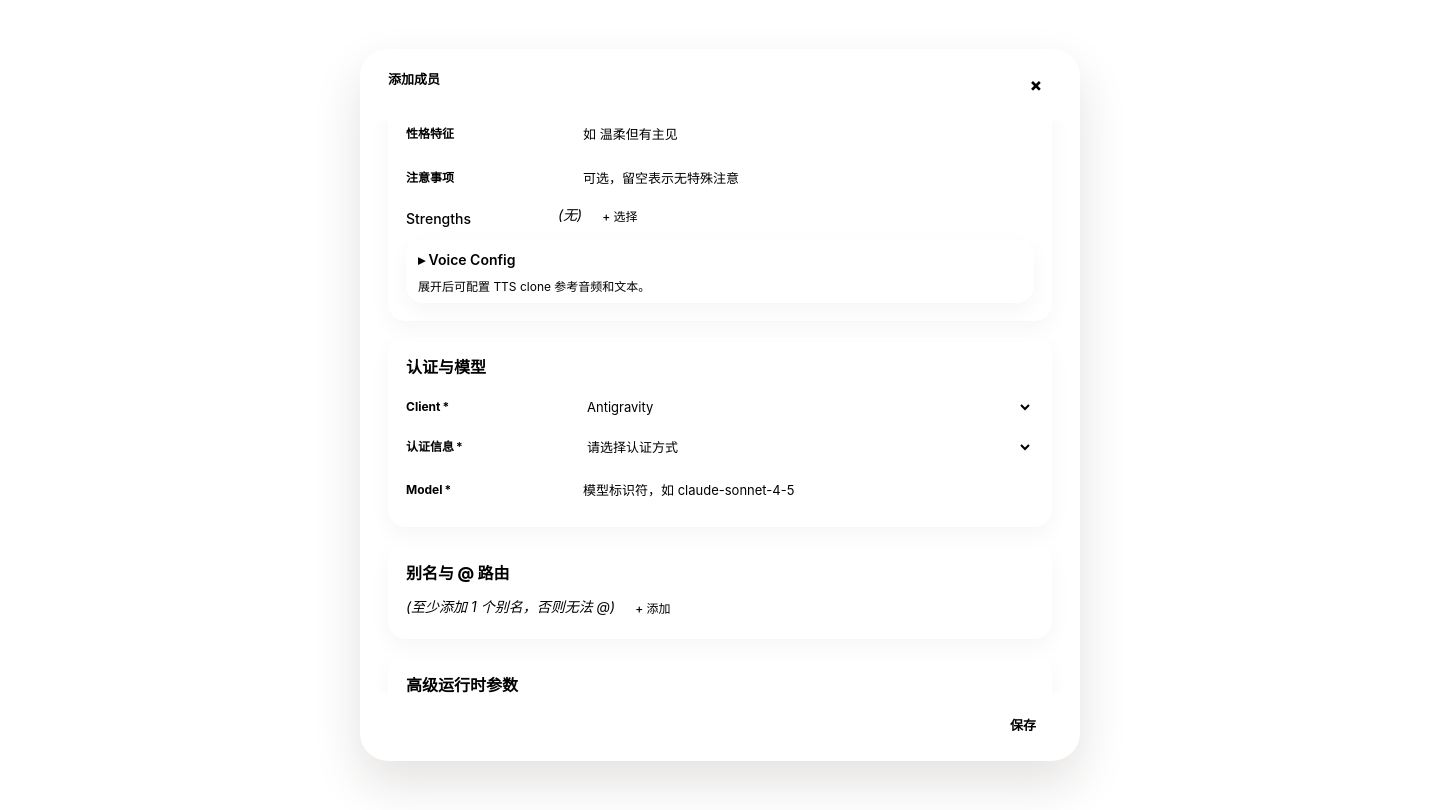
HubCatEditor › switches to Antigravity branch and shows CLI command field
This screenshot has width=1440, height=810.
(page scrolled)
Select "Antigravity" in the dropdown named "Client" at (802, 407), box 570,391 -> 1034,423
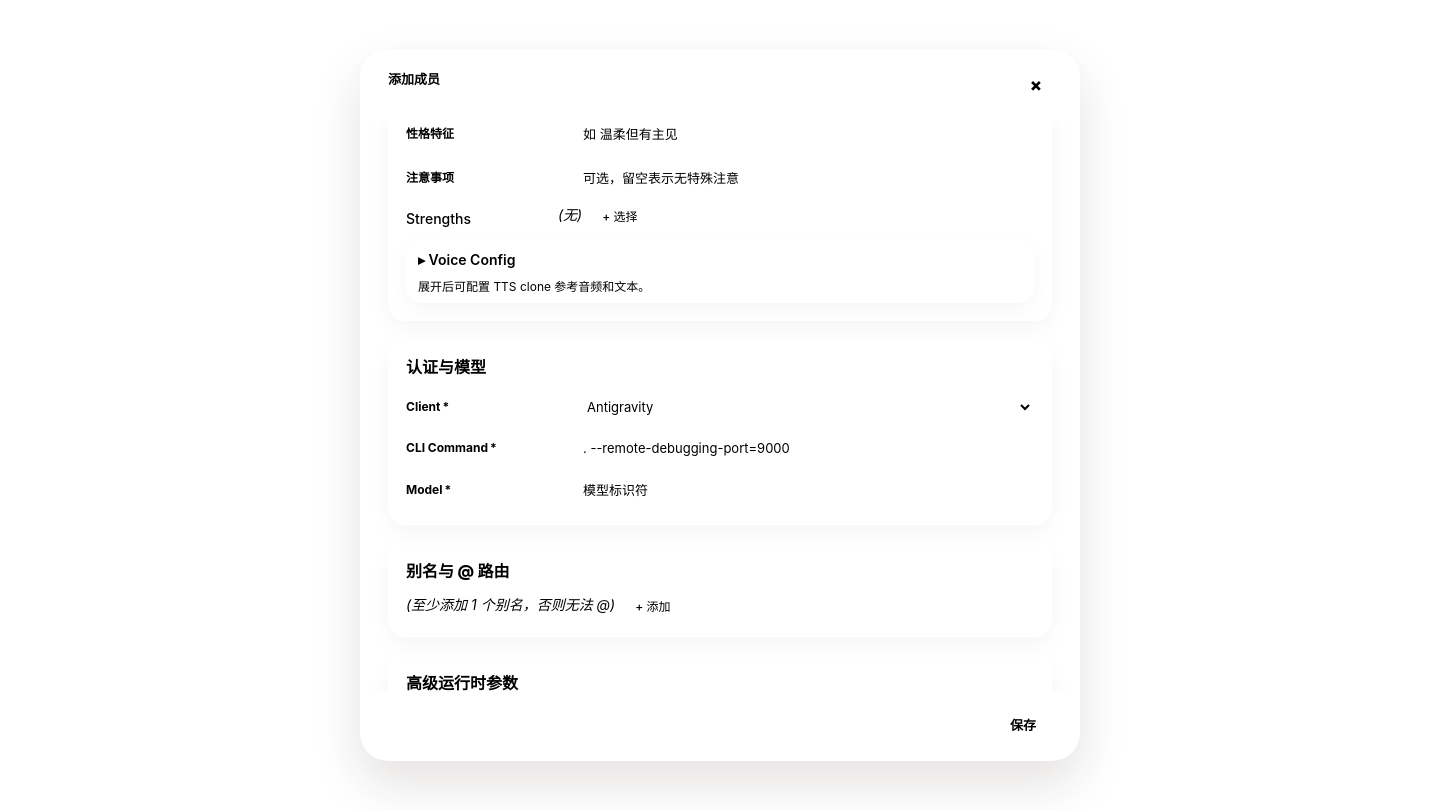
Now the text "CLI Command" is shown, box 406,440 -> 488,455
Now the dropdown named "认证信息" is gone
